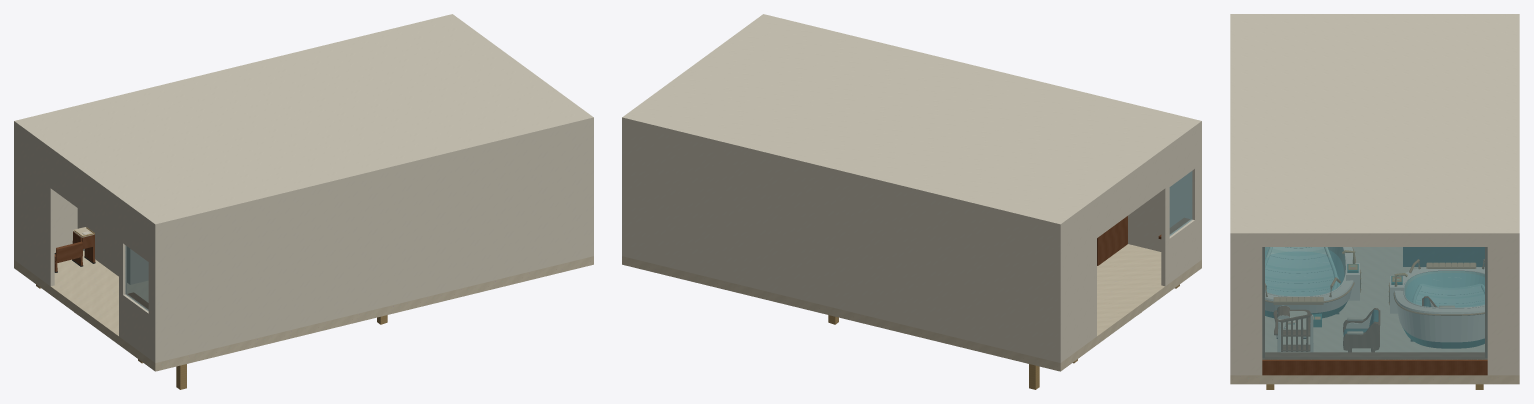
Rendered from QuietGroveBank_547_r001.glb.
3 views of the same model, side by side, from view 1: azimuth 30°, elevation 25°; view 2: azimuth 150°, elevation 25°; view 3: azimuth 270°, elevation 25° (orthographic). The views are drawn at different scales.
Visible parts, largest first — view 1: QG547_Ceiling, QG547_NorthSide, QG547_RoomFloor, QG547_EntryShoulderSouth, QG547_EntryHeader, QG547_StreetWindowLower, QG547_WashEntrySide, QG547_SouthSide, QG547_StreetWindowUpper, QG547_ScreenedStreetGlass, QGB547_CourtSouthPier; view 2: QG547_Ceiling, QG547_SouthSide, QG547_RoomFloor, QG547_EntryShoulderSouth, QG547_NorthSide, QG547_EntryHeader, QG547_StreetWindowLower, QG547_StreetWindowUpper, QG547_ScreenedStreetGlass, QG547_EntryPrivacyDogleg; view 3: QG547_Ceiling, QGB547_PrivateCourtGlass, QG547_RoomFloor, QG547_QG547_ReservedRestSupport_02__Hollow continuous basin , QGB547_CourtNorthPier, QGB547_CourtSouthPier, QGB547_CourtSill, QG547_QG547_ReservedRestSupport_01__Contoured broad immersed, QGB547_CourtHeader, QG547_QG547_ReservedRestSupport_01__Hollow continuous basin , QG547_PositiveWetPrivacyBlade, QGB547_DeepReveal_0.34 (+7 smaller).
Boxes of the visible parts, left/top/right/bottom form: QG547_Ceiling: left=14, top=14, right=593, bottom=229; QG547_NorthSide: left=153, top=123, right=593, bottom=362; QG547_RoomFloor: left=14, top=250, right=593, bottom=371; QG547_EntryShoulderSouth: left=16, top=128, right=54, bottom=286; QG547_EntryHeader: left=49, top=153, right=119, bottom=238; QG547_StreetWindowLower: left=119, top=292, right=152, bottom=360; QG547_WashEntrySide: left=77, top=208, right=133, bottom=284; QG547_SouthSide: left=14, top=127, right=77, bottom=260; QG547_StreetWindowUpper: left=119, top=204, right=152, bottom=264; QG547_ScreenedStreetGlass: left=125, top=245, right=148, bottom=310; QGB547_CourtSouthPier: left=585, top=123, right=593, bottom=256; QG547_Ceiling: left=622, top=14, right=1201, bottom=229; QG547_SouthSide: left=622, top=123, right=1062, bottom=362; QG547_RoomFloor: left=622, top=244, right=1201, bottom=371; QG547_EntryShoulderSouth: left=1063, top=204, right=1096, bottom=360; QG547_NorthSide: left=1128, top=127, right=1201, bottom=260; QG547_EntryHeader: left=1096, top=152, right=1166, bottom=238; QG547_StreetWindowLower: left=1161, top=217, right=1199, bottom=286; QG547_StreetWindowUpper: left=1163, top=128, right=1199, bottom=190; QG547_ScreenedStreetGlass: left=1169, top=171, right=1192, bottom=235; QG547_EntryPrivacyDogleg: left=1097, top=216, right=1127, bottom=265; QG547_Ceiling: left=1230, top=14, right=1519, bottom=238; QGB547_PrivateCourtGlass: left=1262, top=247, right=1487, bottom=359; QG547_RoomFloor: left=1230, top=247, right=1519, bottom=384; QG547_QG547_ReservedRestSupport_02__Hollow continuous basin : left=1395, top=267, right=1484, bottom=348; QGB547_CourtNorthPier: left=1487, top=239, right=1519, bottom=375; QGB547_CourtSouthPier: left=1230, top=239, right=1262, bottom=375; QGB547_CourtSill: left=1262, top=358, right=1487, bottom=375; QG547_QG547_ReservedRestSupport_01__Contoured broad immersed: left=1265, top=247, right=1337, bottom=295; QGB547_CourtHeader: left=1262, top=239, right=1487, bottom=246; QG547_QG547_ReservedRestSupport_01__Hollow continuous basin : left=1265, top=247, right=1353, bottom=317; QG547_PositiveWetPrivacyBlade: left=1403, top=247, right=1484, bottom=266; QGB547_DeepReveal_0.34: left=1265, top=352, right=1484, bottom=357.
Size of the model in its own units: 12.9 by 5.31 by 7.2.
79 materials, 49 textured.
